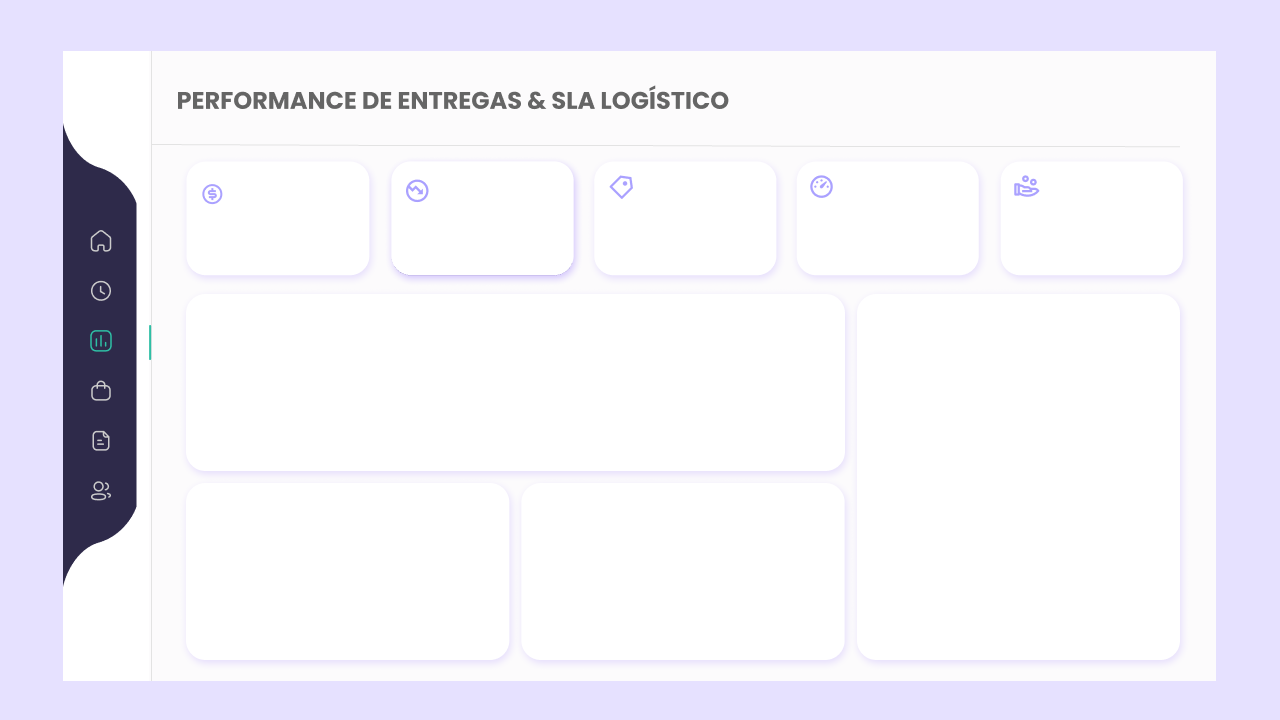

Layout of this report page (visuals, bound fields, positions):
{"tool":"powerbi","page":{"name":"SLA","canvas":[1280,720],"ordinal":1},"visuals":[{"type":"card","fields":{"Values":["_Medidas.Total Entregas"]},"box":[208.6,171.8,159.5,93.3],"z":0},{"type":"card","fields":{"Values":["_Medidas.SLA Geral %"]},"box":[403.7,171.8,159.5,93.3],"z":1000},{"type":"card","fields":{"Values":["_Medidas.Entregas no Prazo"]},"box":[608.6,171.8,159.5,93.3],"z":2000},{"type":"card","fields":{"Values":["_Medidas.Entregas em Atraso"]},"box":[804.9,171.8,159.5,93.3],"z":3000},{"type":"clusteredColumnChart","title":"Performance de SLA por Região","fields":{"Y":["_Medidas.SLA %"],"Category":["fato_entregas.region"]},"box":[213.5,487.1,290.8,163.2],"z":4000},{"type":"clusteredBarChart","title":"SLA por Transportadora","fields":{"Y":["_Medidas.SLA %"],"Category":["fato_entregas.carrier"]},"box":[541.1,479.8,289.6,170.6],"z":5000},{"type":"clusteredColumnChart","title":"Evolução do SLA ao longo do tempo","fields":{"Y":["_Medidas.SLA %"],"Category":["dim_calendario.Mes"]},"box":[200,296.9,476.1,163.2],"z":6000},{"type":"clusteredBarChart","title":"SLA por Cliente","fields":{"Y":["_Medidas.SLA %"],"Category":["kpi_sla_cliente.client_name"]},"box":[868.7,309.2,303.1,341.1],"z":7000},{"type":"slicer","fields":{"Values":["Parâmetro.Parâmetro"]},"box":[971.8,65,200,68.7],"z":8000},{"type":"actionButton","box":[86.6,320.4,50.2,39.8],"z":10000},{"type":"card","fields":{"Values":["_Medidas.Atraso Médio (dias)"]},"box":[1000,170.9,159.3,94.2],"z":11000},{"type":"card","fields":{"Values":["_Medidas.Insight SLA"]},"box":[660.1,309.2,170.6,150.9],"z":11001}]}

Visuals, with their boxes on the page's 1280x720 design canvas (x1, y1, x2, y2). These are canvas units, not pixel positions in the 1280x720 screenshot, which may show the page scaled, cropped or inside an application window:
card - _Medidas.Total Entregas: [x1=209, y1=172, x2=368, y2=265]
card - _Medidas.SLA Geral %: [x1=404, y1=172, x2=563, y2=265]
card - _Medidas.Entregas no Prazo: [x1=609, y1=172, x2=768, y2=265]
card - _Medidas.Entregas em Atraso: [x1=805, y1=172, x2=964, y2=265]
"Performance de SLA por Região" clusteredColumnChart: [x1=214, y1=487, x2=504, y2=650]
"SLA por Transportadora" clusteredBarChart: [x1=541, y1=480, x2=831, y2=650]
"Evolução do SLA ao longo do tempo" clusteredColumnChart: [x1=200, y1=297, x2=676, y2=460]
"SLA por Cliente" clusteredBarChart: [x1=869, y1=309, x2=1172, y2=650]
slicer - Parâmetro.Parâmetro: [x1=972, y1=65, x2=1172, y2=134]
actionButton: [x1=87, y1=320, x2=137, y2=360]
card - _Medidas.Atraso Médio (dias): [x1=1000, y1=171, x2=1159, y2=265]
card - _Medidas.Insight SLA: [x1=660, y1=309, x2=831, y2=460]
